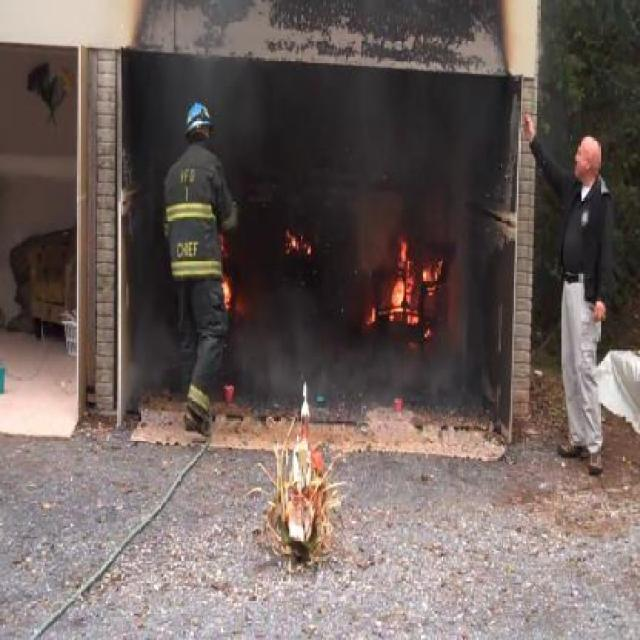fire: (368, 251, 443, 324), (218, 236, 236, 309)
smoke: (143, 25, 519, 447)
